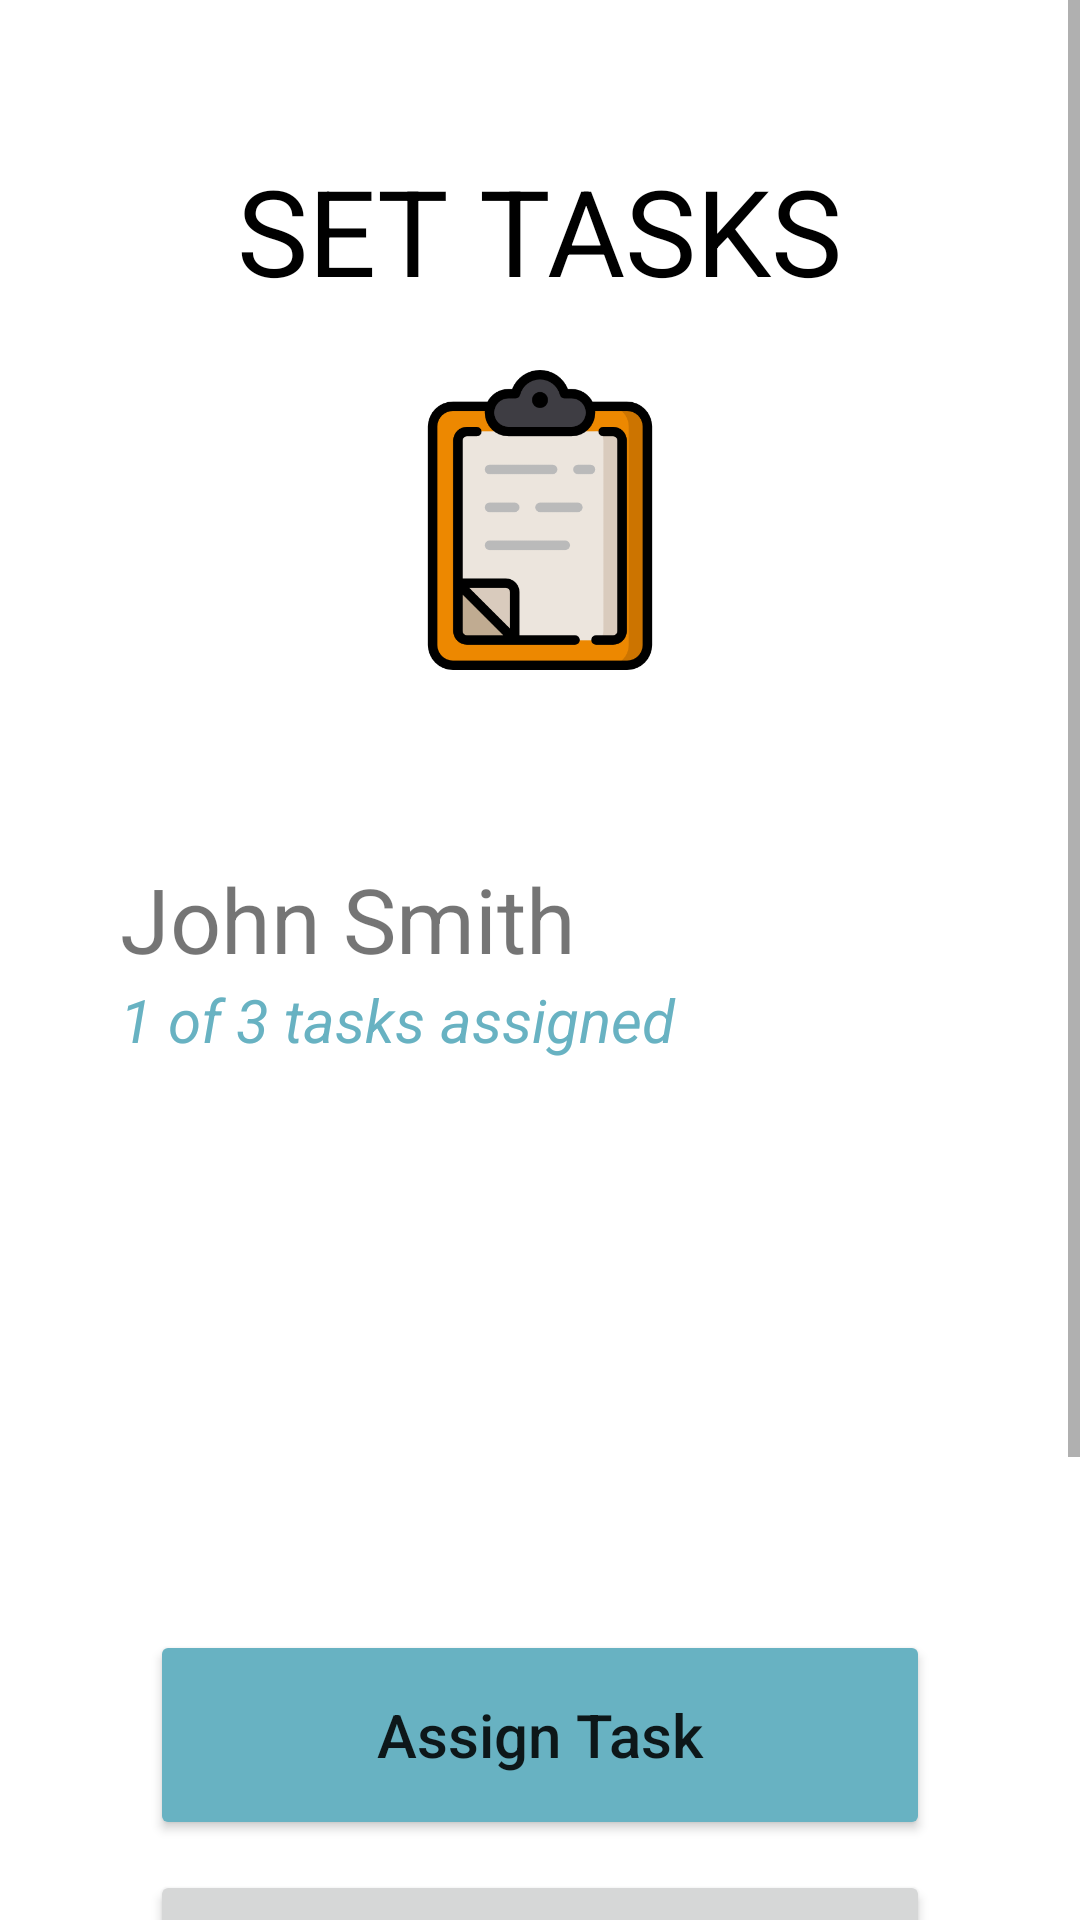

Icons on this 1080px×1920px Android screen, each with its box as (x1, y1, x2, y2):
clipboard: (427, 370, 653, 670)
